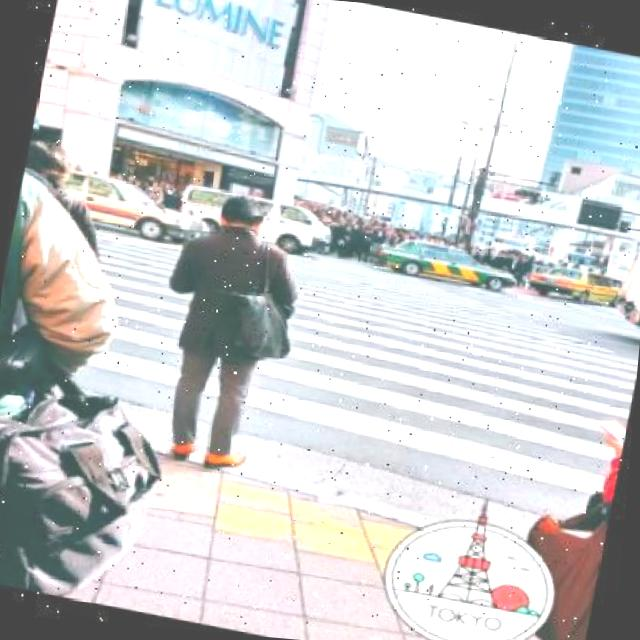Person: (136, 185, 310, 478)
